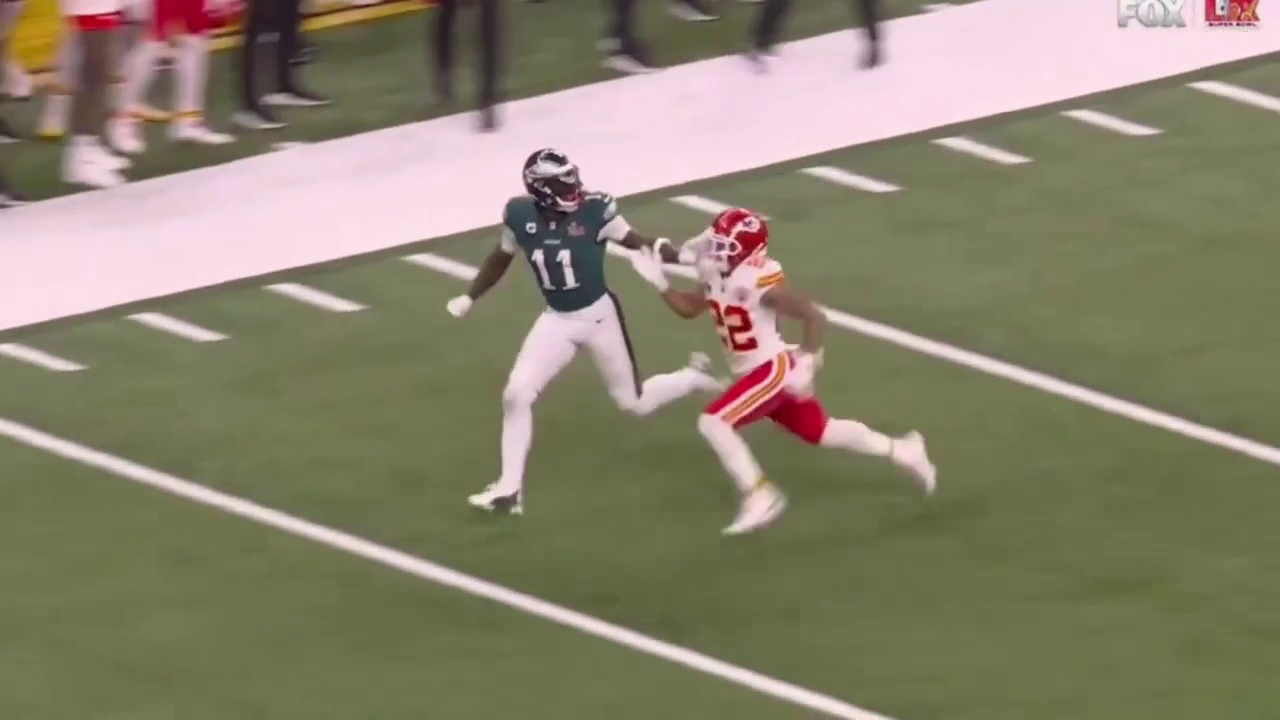interference: (625, 225, 745, 276)
